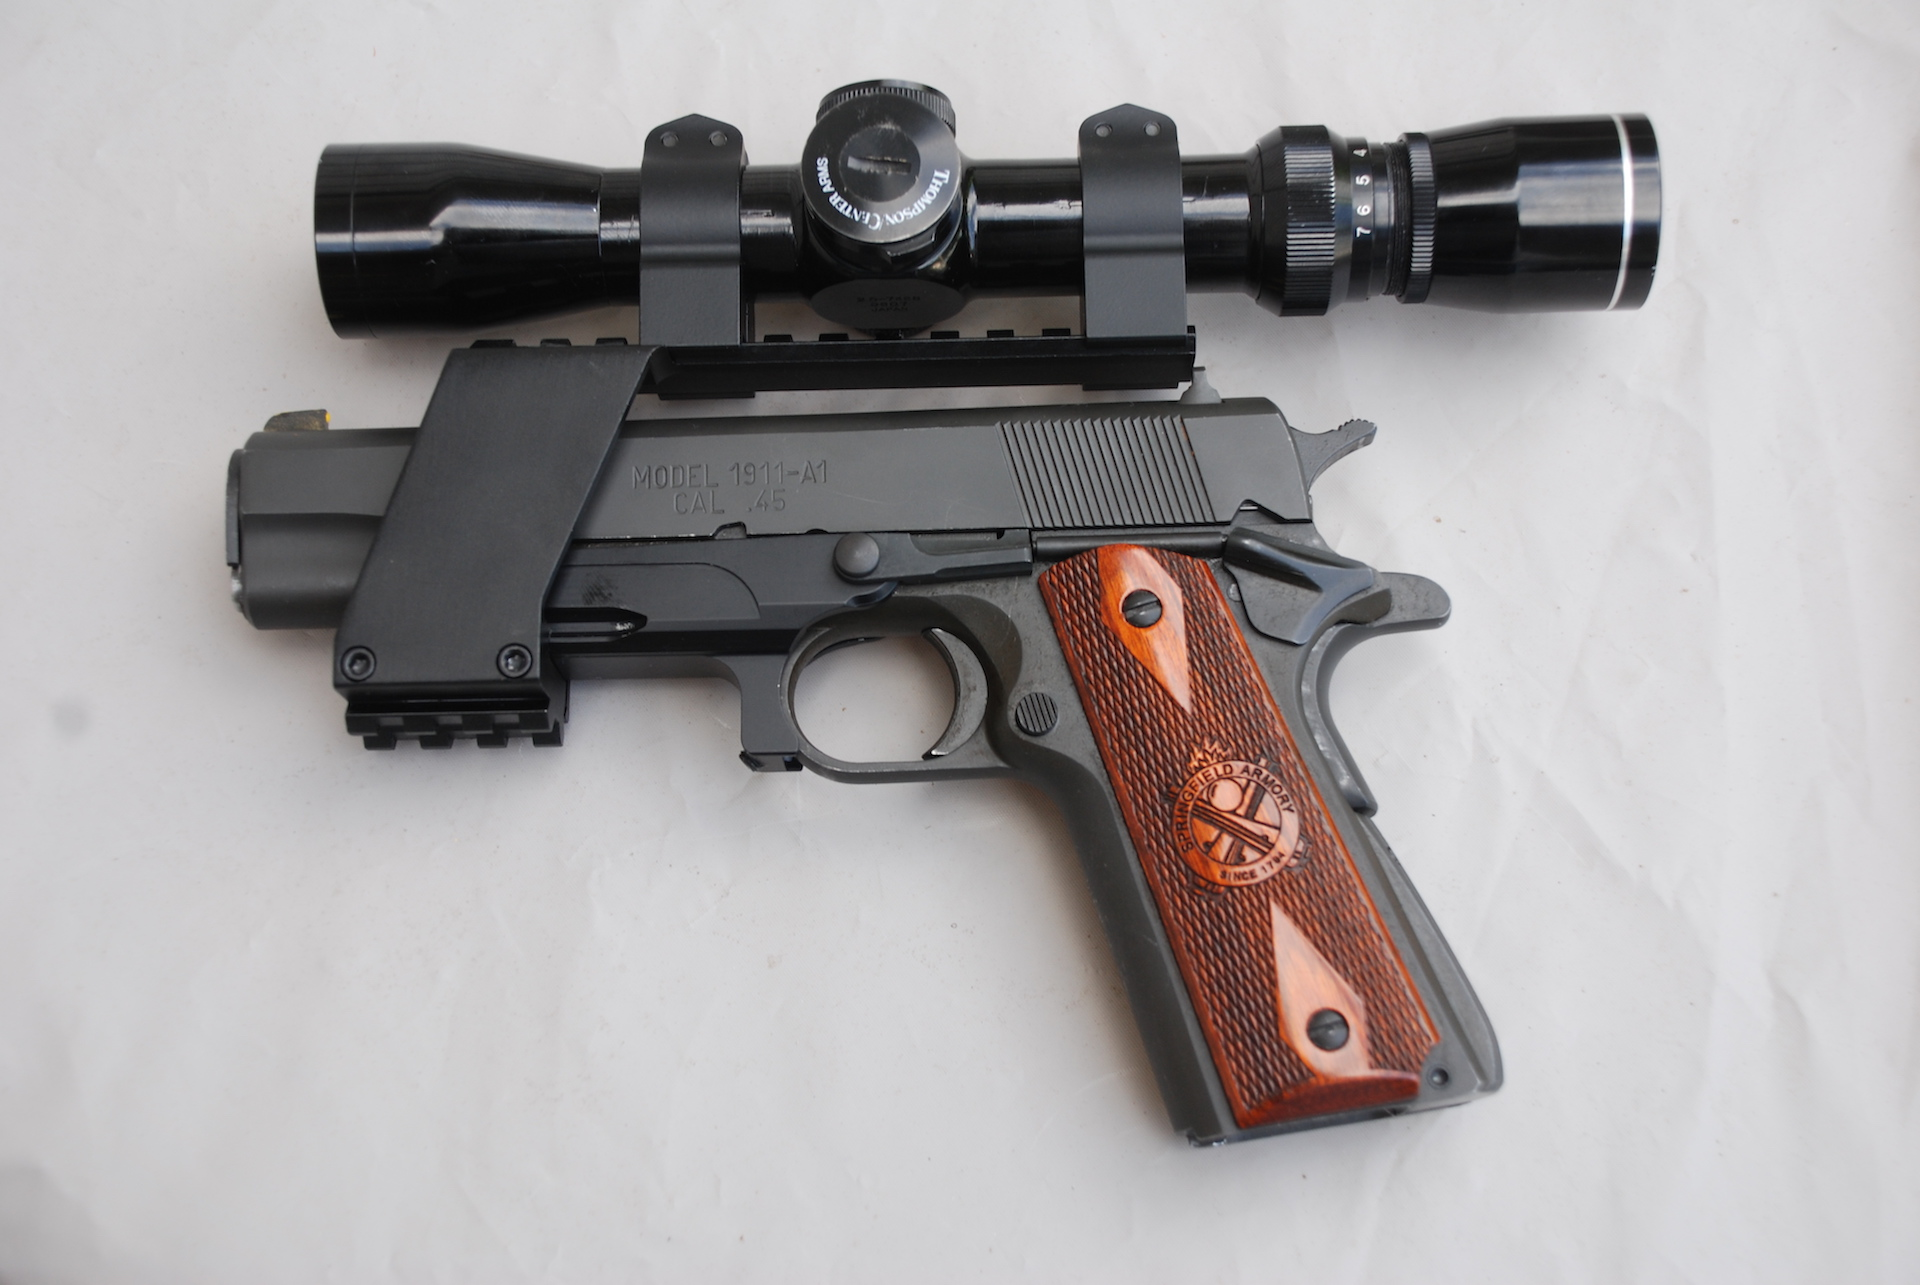pistol: (225, 367, 1508, 1156)
